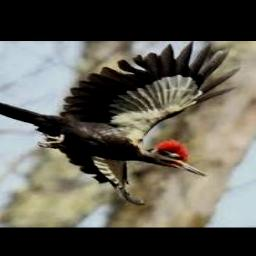Woodpecker: (0, 41, 240, 204)
